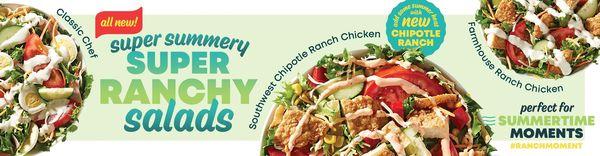sandwich: (0, 4, 89, 152)
